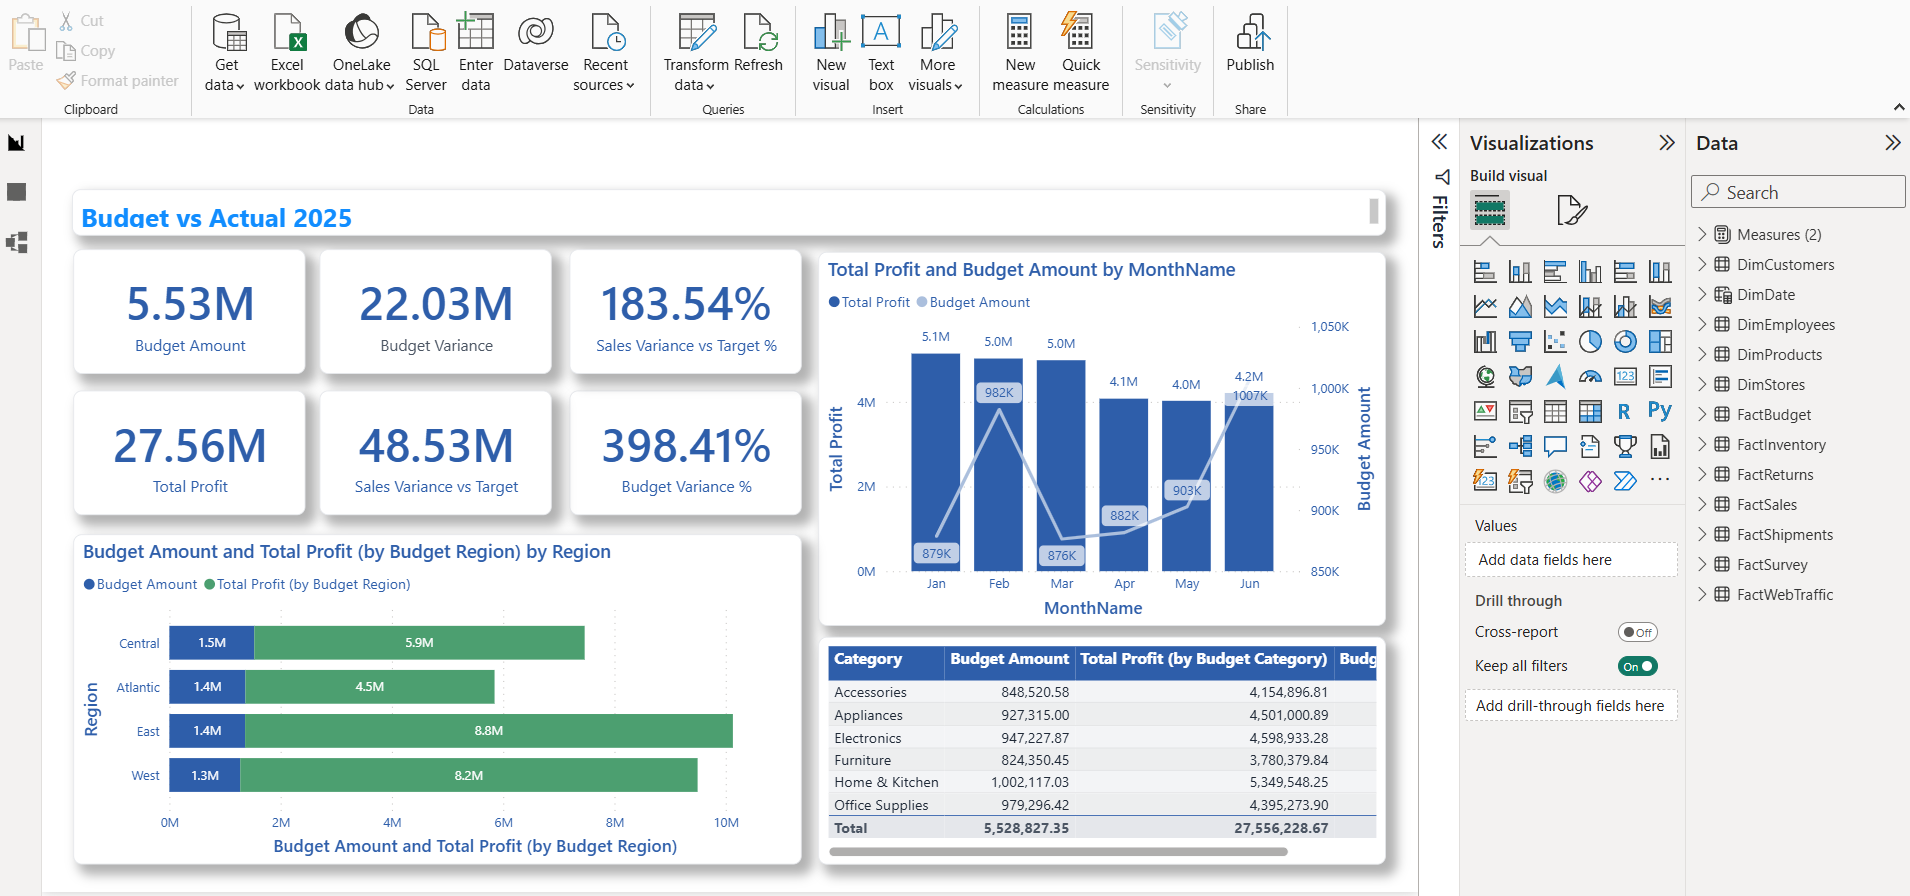

What the dashboard file says about the page in this screenshot:
{"tool":"powerbi","page":{"name":"Budget vs Actual","canvas":[1280,720],"ordinal":6},"visuals":[{"type":"textbox","box":[27.9,66.3,1222.1,43],"z":0},{"type":"card","fields":{"Values":["Measures (2).Budget Amount"]},"box":[29.1,122.1,216.3,116.3],"z":2000},{"type":"card","fields":{"Values":["Measures (2).Total Profit"]},"box":[29.1,253.5,216.3,116.3],"z":3000},{"type":"card","fields":{"Values":["Measures (2).Budget Variance"]},"box":[258.1,122.1,216.3,116.3],"z":4000},{"type":"card","fields":{"Values":["Measures (2).Budget Variance %"]},"box":[490.7,253.5,216.3,116.3],"z":5000},{"type":"card","fields":{"Values":["Measures (2).Sales Variance vs Target"]},"box":[258.1,253.5,216.3,116.3],"z":6000},{"type":"card","fields":{"Values":["Measures (2).Sales Variance vs Target %"]},"box":[490.7,122.1,216.3,116.3],"z":7000},{"type":"lineClusteredColumnComboChart","fields":{"Category":["DimDate.MonthName"],"Y":["Measures (2).Total Profit"],"Y2":["Measures (2).Budget Amount"]},"box":[722.1,124.4,527.9,347.7],"z":8000},{"type":"barChart","fields":{"Category":["FactBudget.Region"],"Y":["Measures (2).Budget Amount","Measures (2).Total Profit (by Budget Region)"]},"box":[29.1,387.2,677.9,307],"z":10000},{"type":"tableEx","fields":{"Values":["FactBudget.Category","Measures (2).Budget Amount","Measures (2).Total Profit (by Budget Category)","Measures (2).Budget Variance %"]},"box":[722.1,482.6,527.9,211.6],"z":11000}]}

Visuals, with their boxes on the page's 1280x720 design canvas (x1, y1, x2, y2). These are canvas units, not pixel positions in the 1910x896 screenshot, which may show the page scaled, cropped or inside an application window:
textbox: [28, 66, 1250, 109]
card - Measures (2).Budget Amount: [29, 122, 245, 238]
card - Measures (2).Total Profit: [29, 254, 245, 370]
card - Measures (2).Budget Variance: [258, 122, 474, 238]
card - Measures (2).Budget Variance %: [491, 254, 707, 370]
card - Measures (2).Sales Variance vs Target: [258, 254, 474, 370]
card - Measures (2).Sales Variance vs Target %: [491, 122, 707, 238]
lineClusteredColumnComboChart - DimDate.MonthName x Measures (2).Total Profit: [722, 124, 1250, 472]
barChart - FactBudget.Region x Measures (2).Budget Amount: [29, 387, 707, 694]
tableEx - FactBudget.Category x Measures (2).Budget Amount: [722, 483, 1250, 694]
